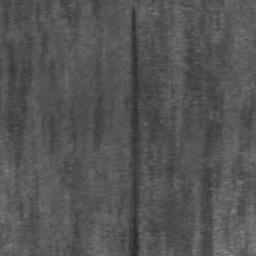Scratches: (130, 0, 140, 256)
